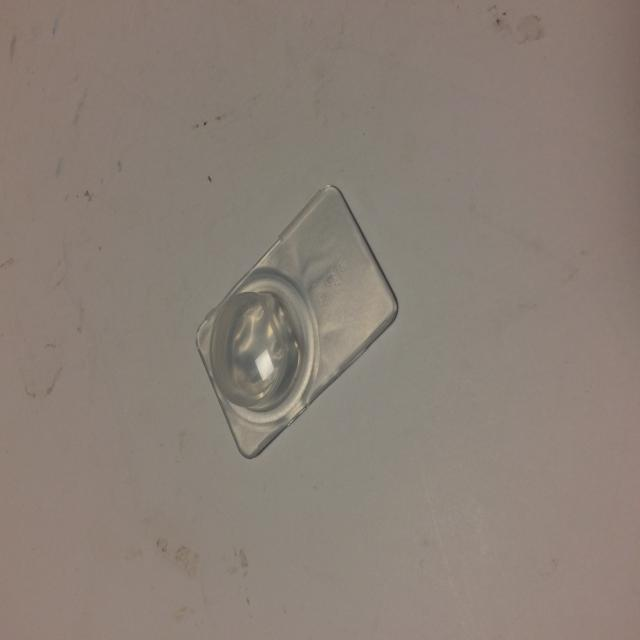trash: (196, 183, 399, 460)
